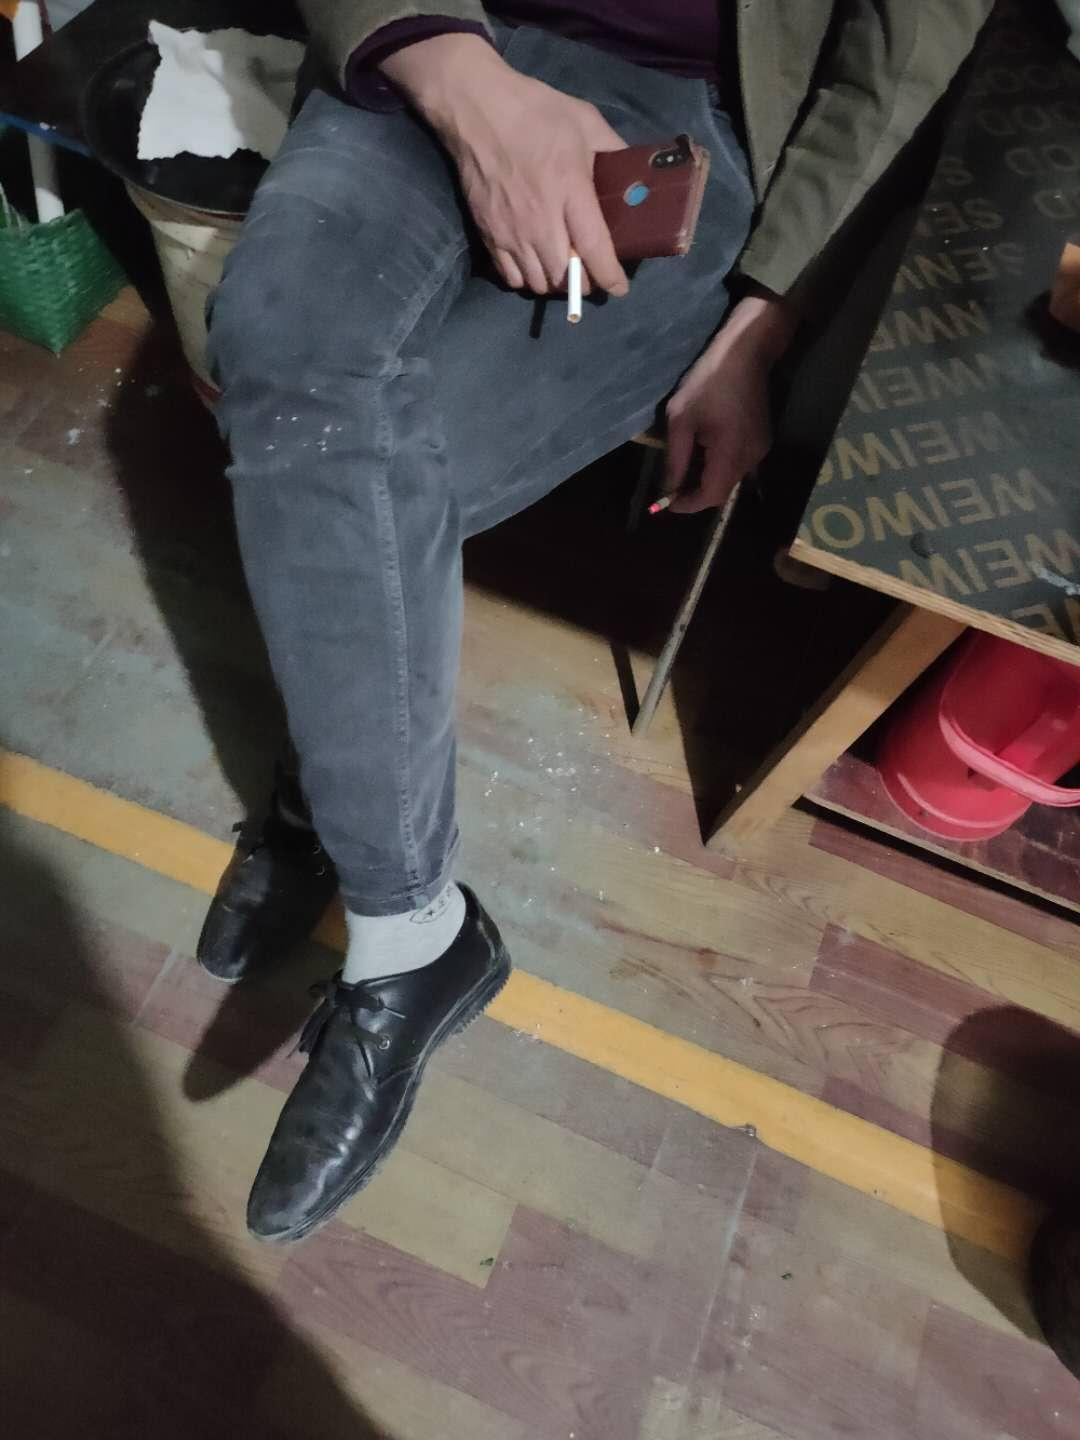Cigarette: (565, 244, 589, 317)
